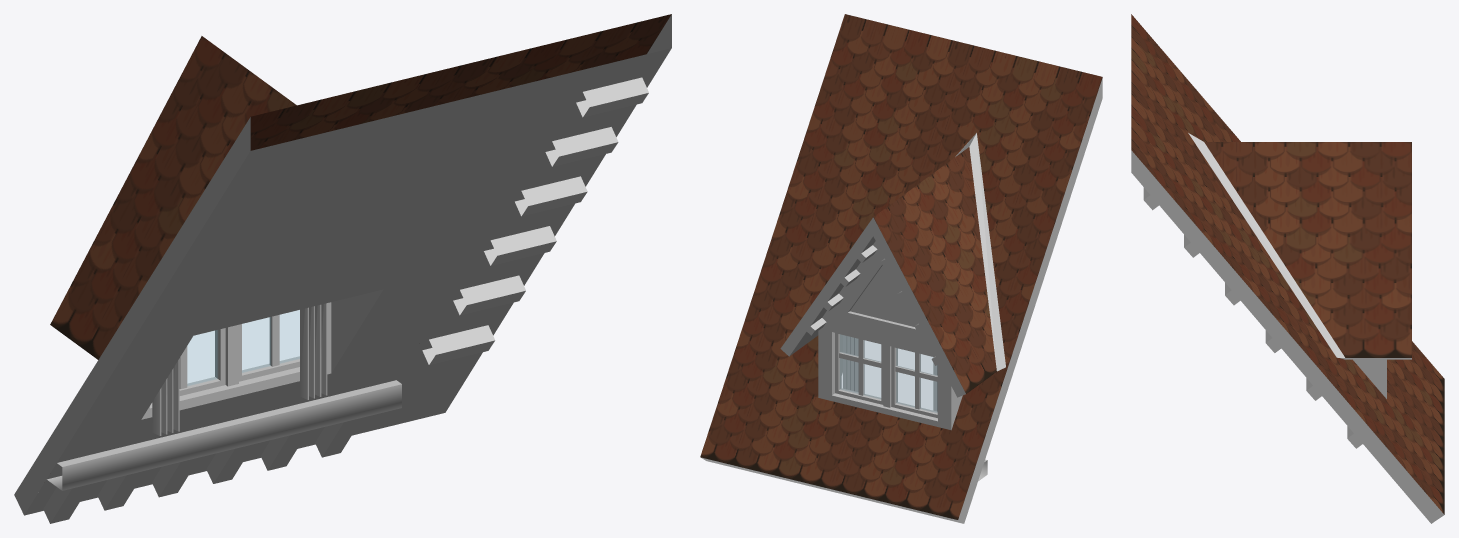
Rendered from Roof_End_Window_02_B.FBX.
3 renders of one model, left to right at view 1: azimuth 30°, elevation 25°; view 2: azimuth 150°, elevation 25°; view 3: azimuth 270°, elevation 25°, orthographic. The views are drawn at different scales.
Visible parts, largest first — view 1: Roof_End_Window_02_B; view 2: Roof_End_Window_02_B; view 3: Roof_End_Window_02_B.
Boxes of the visible parts, bbox=[...] form: Roof_End_Window_02_B: bbox=[14, 14, 671, 523]; Roof_End_Window_02_B: bbox=[700, 14, 1102, 523]; Roof_End_Window_02_B: bbox=[1131, 14, 1444, 523].
Bounding box in the file's own units: 7.75 × 10.04 × 7.53.
